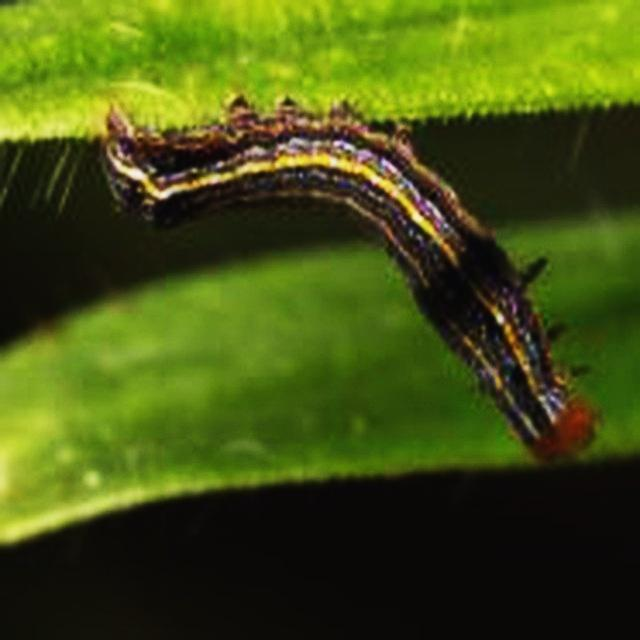gusano_cogollero: (100, 90, 606, 469)
